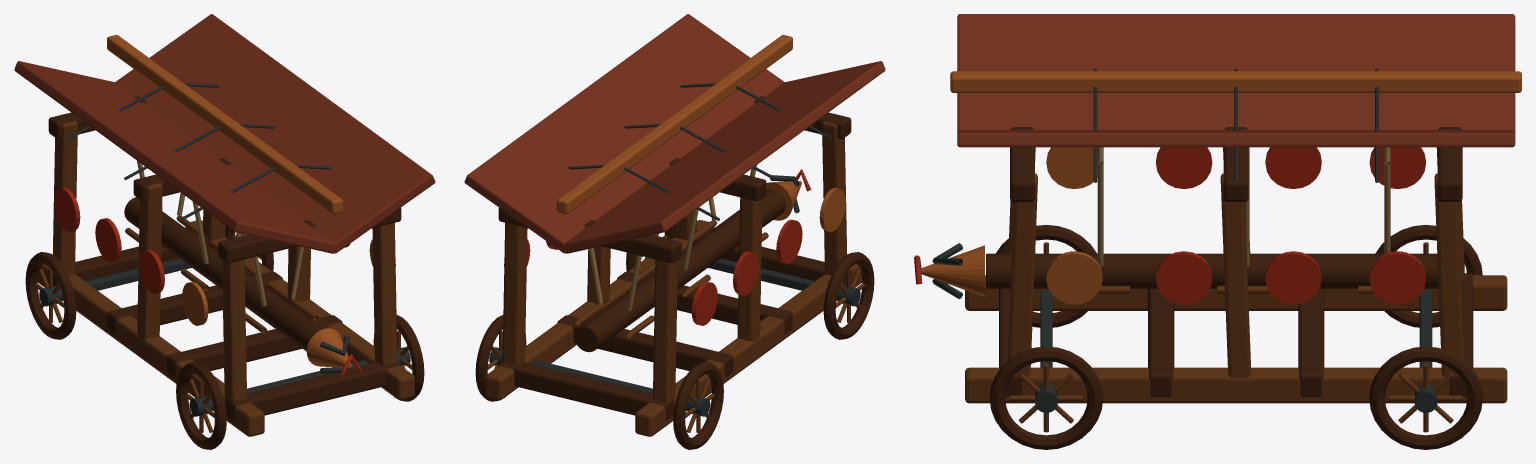
File: battering_ram_LOD0.glb
3 views of the same model, side by side, from view 1: azimuth 30°, elevation 25°; view 2: azimuth 150°, elevation 25°; view 3: azimuth 270°, elevation 25° (orthographic). The views are drawn at different scales.
Visible parts, largest first — view 1: RamWetHideRoof.001, RamWetHideRoof, RamBronzeRoofRidge, RamMainBeam, RamLongRail, RamCrossBeam, RamCanopyPost, RamCanopyPost.003, RamWheel_L_F_Pivot, RamWheel_L_R_Pivot, RamLongRail.001, RamCanopyPost.001 (+17 smaller); view 2: RamWetHideRoof.001, RamWetHideRoof, RamMainBeam, RamBronzeRoofRidge, RamLongRail, RamCrossBeam.003, RamLongRail.001, RamCanopyPost.002, RamCanopyPost.005, RamWheel_L_R_Pivot, RamWheel_L_F_Pivot, RamCanopyPost.001 (+16 smaller); view 3: RamWetHideRoof, RamLongRail.001, RamBronzeRoofRidge, RamWetHideRoof.001, RamMainBeam, RamLongRail, RamWheel_R_R_Pivot, RamWheel_R_F_Pivot, RamCanopyPost.004, RamCanopyPost.005, RamCanopyPost.003, RamCrossBeam.001 (+21 smaller).
Boxes of the visible parts, box(x1,y1,x2,y2) form: RamWetHideRoof.001: box(115, 14, 435, 253); RamWetHideRoof: box(14, 61, 336, 253); RamBronzeRoofRidge: box(107, 35, 342, 214); RamMainBeam: box(124, 197, 322, 351); RamLongRail: box(37, 264, 264, 436); RamCrossBeam: box(225, 362, 401, 420); RamCanopyPost: box(222, 259, 246, 402); RamCanopyPost.003: box(372, 222, 397, 365); RamWheel_L_F_Pivot: box(176, 362, 226, 449); RamWheel_L_R_Pivot: box(25, 252, 76, 339); RamLongRail.001: box(185, 220, 414, 399); RamCanopyPost.001: box(137, 183, 162, 339); RamWetHideRoof.001: box(464, 14, 784, 253); RamWetHideRoof: box(563, 61, 885, 253); RamMainBeam: box(574, 189, 785, 352); RamBronzeRoofRidge: box(557, 35, 792, 214); RamLongRail: box(635, 264, 862, 436); RamCrossBeam.003: box(498, 362, 674, 420); RamLongRail.001: box(485, 220, 714, 399); RamCanopyPost.002: box(653, 259, 677, 402); RamCanopyPost.005: box(502, 222, 527, 365); RamWheel_L_R_Pivot: box(673, 362, 723, 449); RamWheel_L_F_Pivot: box(823, 252, 874, 339); RamCanopyPost.001: box(737, 197, 762, 341); RamWetHideRoof: box(957, 14, 1515, 132); RamLongRail.001: box(965, 367, 1507, 403); RamBronzeRoofRidge: box(950, 71, 1521, 92); RamWetHideRoof.001: box(957, 130, 1515, 147); RamMainBeam: box(986, 253, 1438, 288); RamLongRail: box(965, 275, 1507, 310); RamWheel_R_R_Pivot: box(1369, 346, 1482, 449); RamWheel_R_F_Pivot: box(989, 346, 1103, 449); RamCanopyPost.004: box(1220, 173, 1250, 377); RamCanopyPost.005: box(1434, 173, 1464, 376); RamCanopyPost.003: box(1008, 173, 1037, 377); RamCrossBeam.001: box(1148, 289, 1174, 396).
Bounding box in the file's own units: 2.96 × 3.34 × 5.83.
